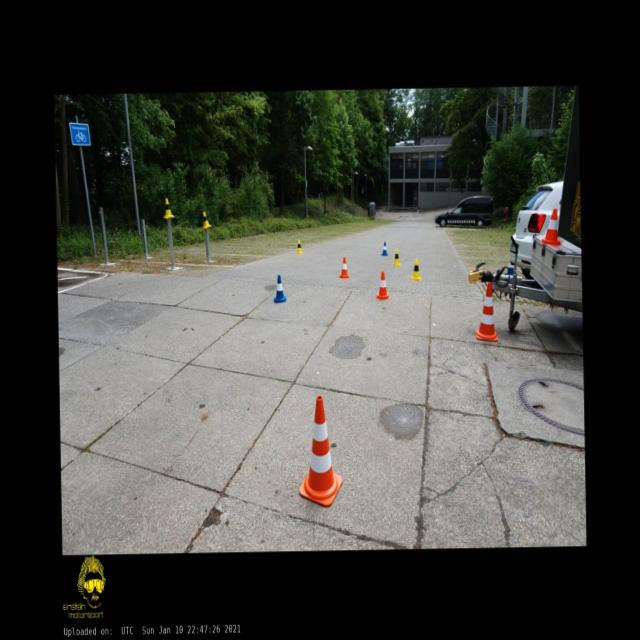blue_cone: (273, 275, 286, 302), (382, 242, 388, 255)
large_orange_cone: (298, 396, 342, 506), (474, 282, 498, 341)
orange_cone: (541, 209, 560, 245), (376, 272, 388, 298), (338, 256, 348, 278)
yellow_cone: (162, 198, 174, 217), (411, 258, 420, 280), (392, 248, 400, 265), (202, 211, 210, 228), (296, 239, 301, 253)
